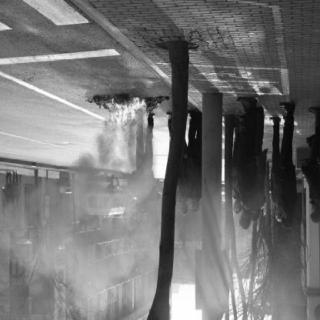Fire: (105, 92, 153, 140)
